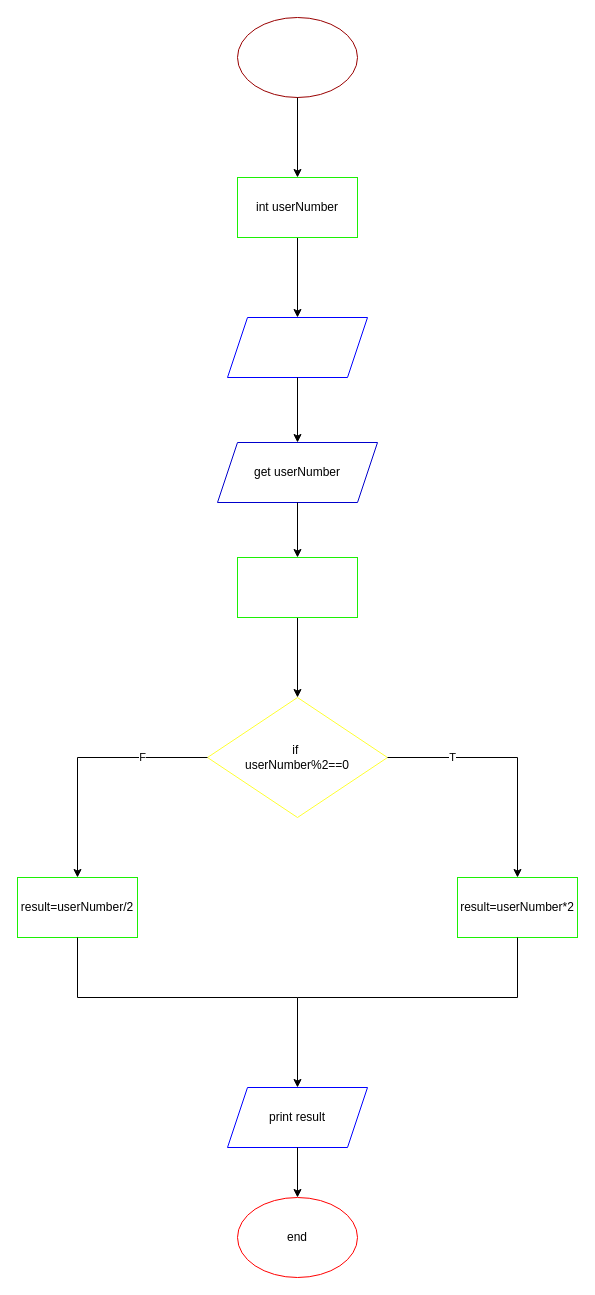
Image size: 595x1295. Some labels were removed from this diagram. The shapes that lost their labels are listed below. From the top down, each one's box as (x1, y1, x2, y2) in pixels, then its label:
(236, 16, 358, 98): start
(226, 316, 368, 378): print "enter number"
(236, 556, 358, 618): float result
